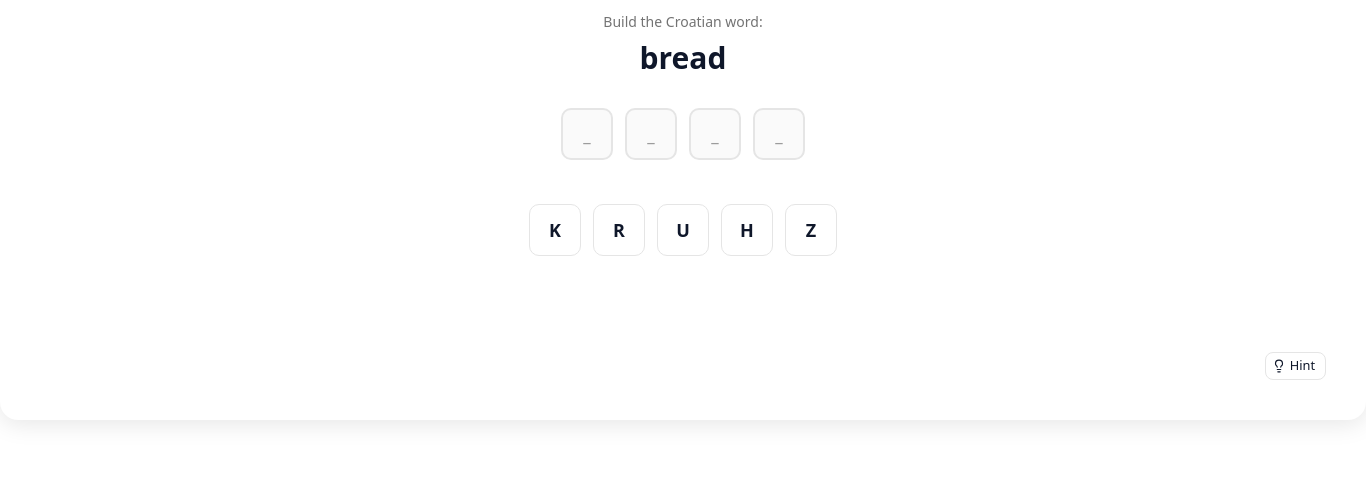
Test: LetterPickExercise › resets placed letters back to the pool when Reset is clicked
Click the button "K" at (555, 230), box [529,204,581,256]
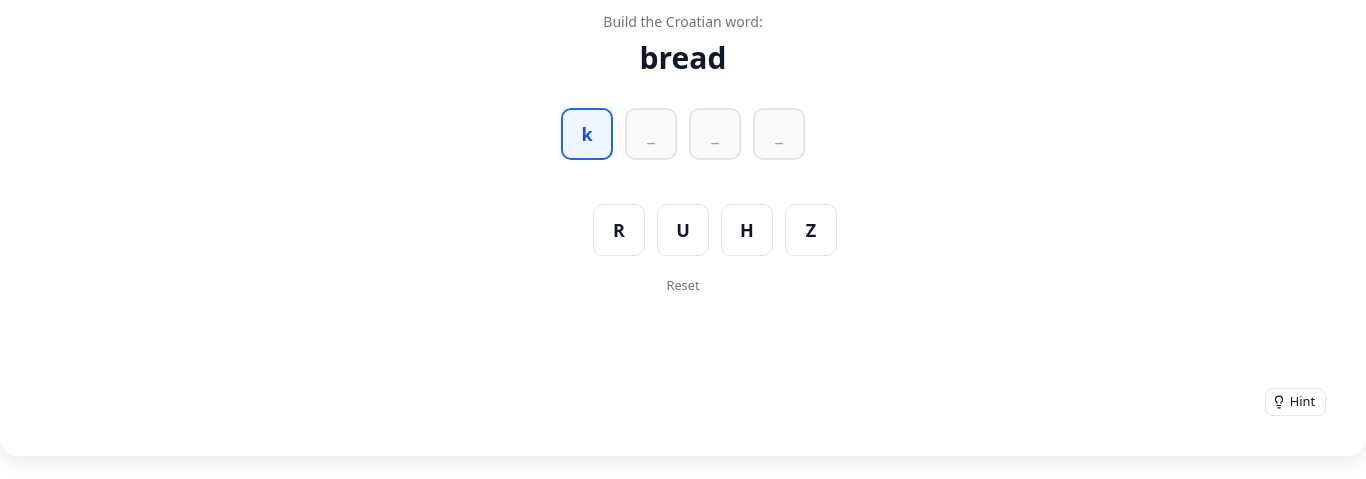
Check: the button "Reset" is shown
Click the button "Reset" at (683, 286), box [655,272,711,300]
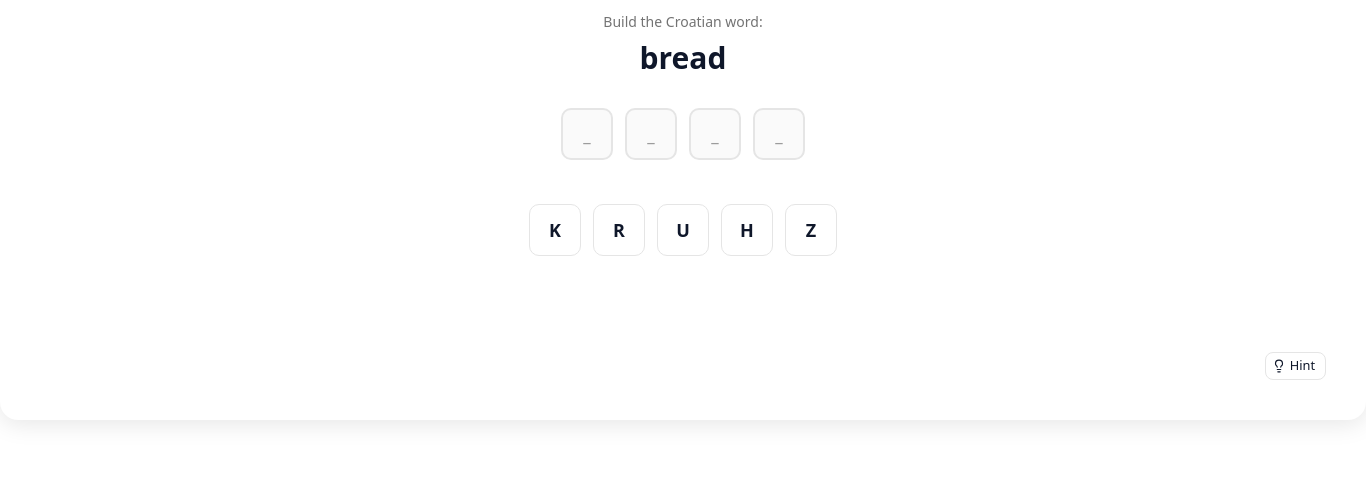
Check: the button "K" is shown, box [529,204,581,256]
Check: the button "Reset" is gone
